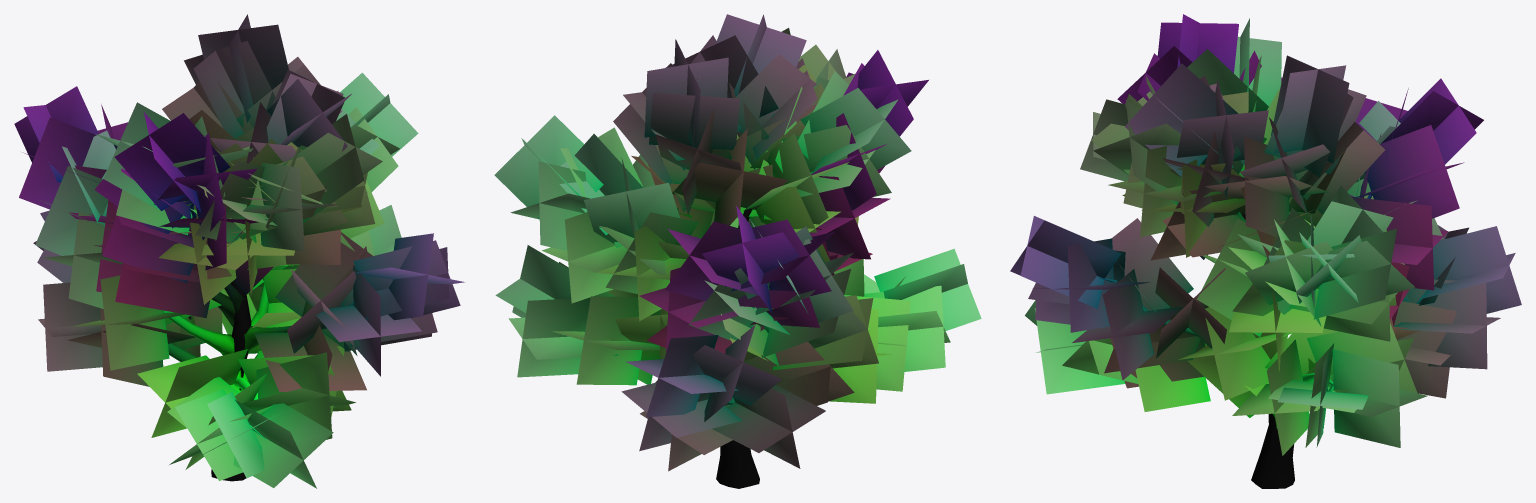
The model's file is M_P11_Tree_1.fbx.
The picture shows the model from 3 angles, left to right: view 1: azimuth 30°, elevation 25°; view 2: azimuth 150°, elevation 25°; view 3: azimuth 270°, elevation 25°; orthographic projection.
Visible parts, largest first — view 1: Tree_1; view 2: Tree_1; view 3: Tree_1.
Boxes of the visible parts, bbox=[...] form: Tree_1: bbox=[14, 14, 464, 488]; Tree_1: bbox=[494, 14, 981, 488]; Tree_1: bbox=[1010, 14, 1521, 488].
Bounding box in the file's own units: 499 × 570 × 609.
